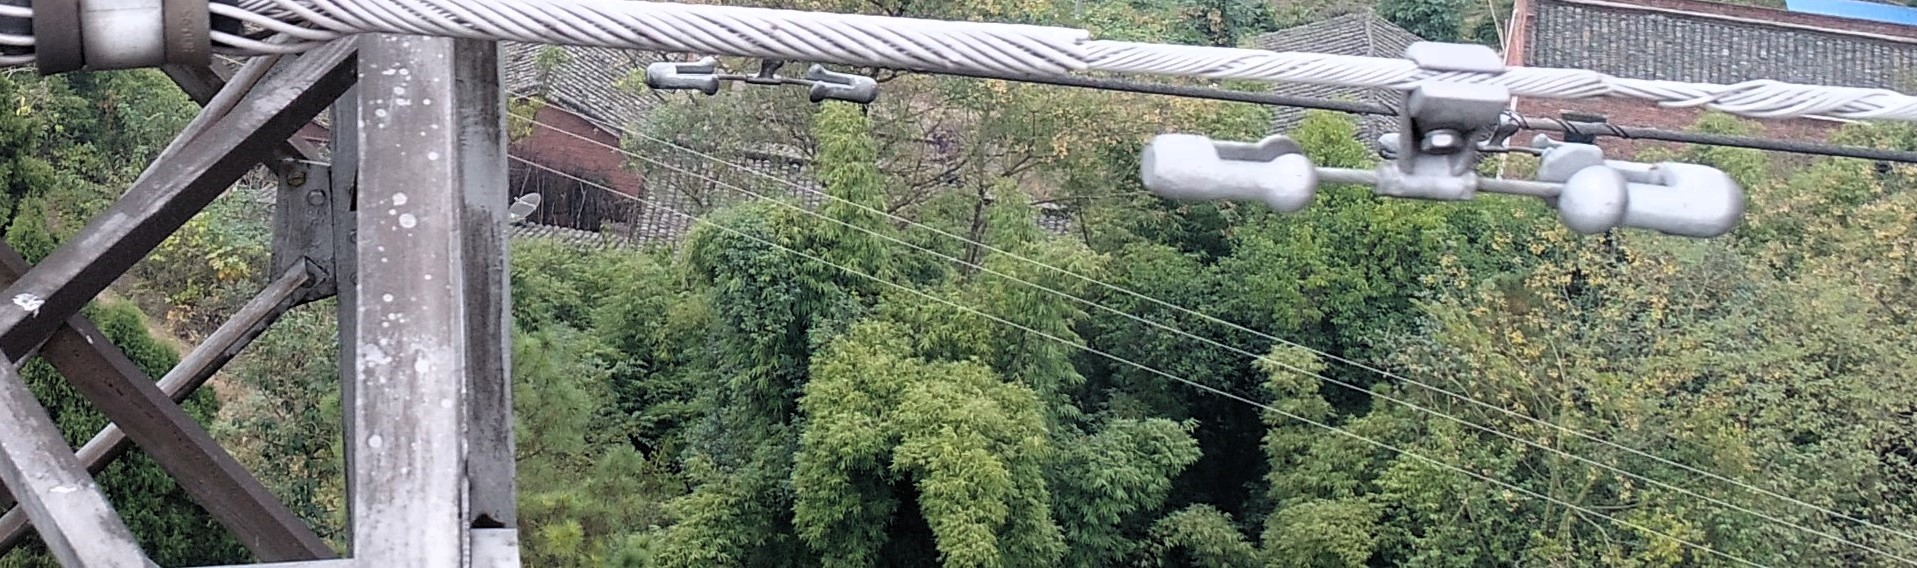Shockproof hammer: (1117, 21, 1762, 252)
